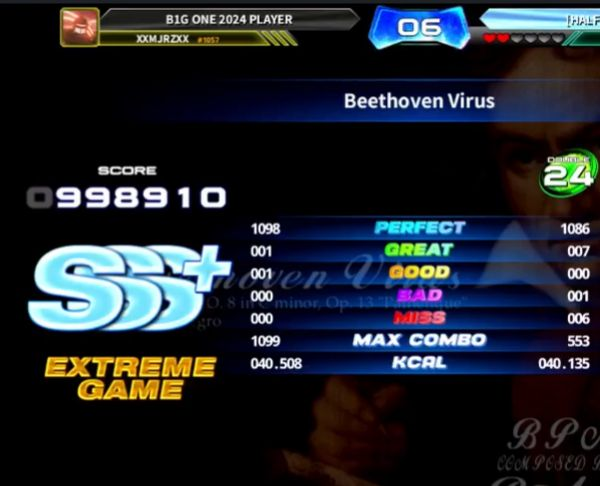difficulty: (530, 139, 599, 200)
fullscore: (0, 13, 408, 472)
rank: (19, 230, 231, 340)
score: (29, 162, 238, 212)
song_name: (186, 76, 592, 120)
